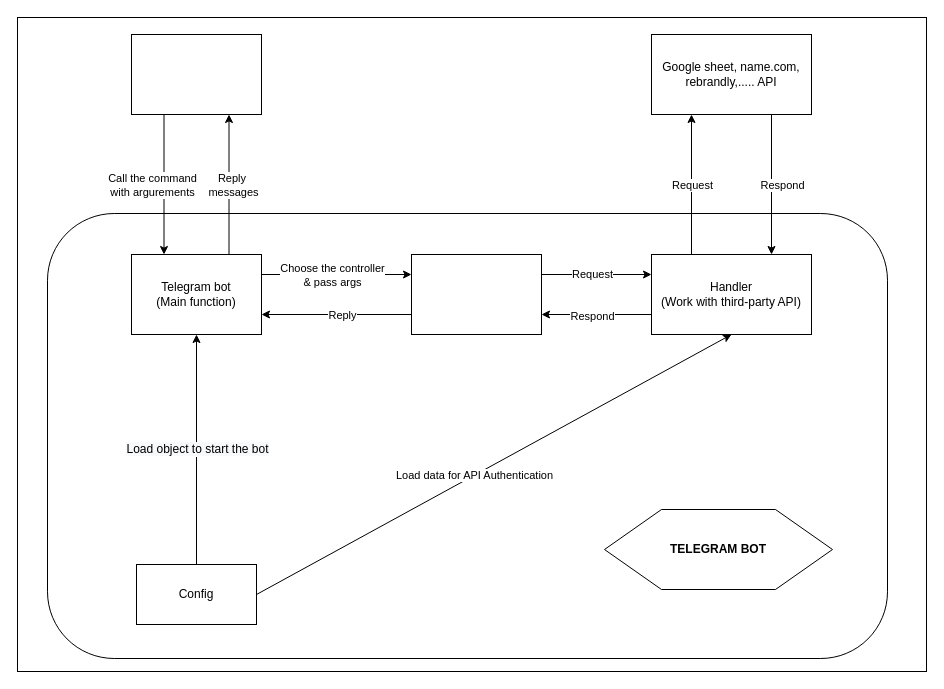
This 944x689 diagram has some shape labels left out. Each missing label, with the centre of its shape:
"Controller" goes at [476,294].
"Telegram" goes at [196,74].
